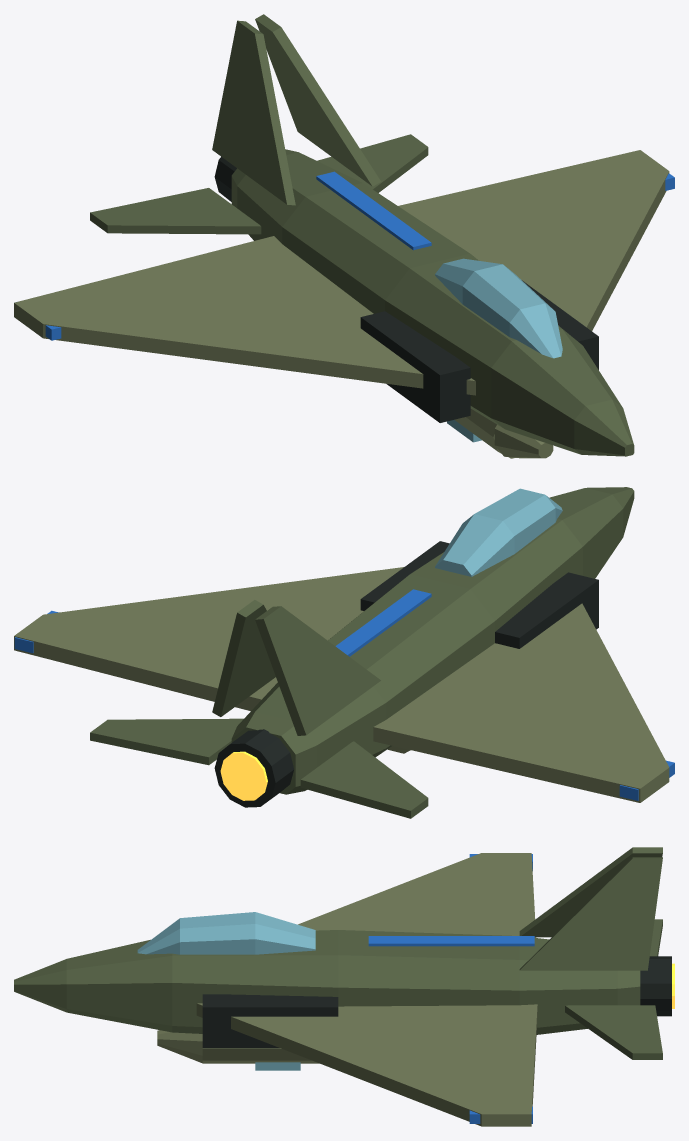
Rendered from air_h_recon.glb.
The picture shows the model from 3 angles, top to bottom: view 1: azimuth 30°, elevation 25°; view 2: azimuth 150°, elevation 25°; view 3: azimuth 270°, elevation 25°; orthographic projection. The views are drawn at different scales.
Visible parts, largest first — view 1: Recon jet; view 2: Recon jet; view 3: Recon jet.
Part boxes in pixels (left/top/right/bottom): Recon jet: left=14, top=14, right=674, bottom=458; Recon jet: left=14, top=487, right=674, bottom=818; Recon jet: left=14, top=847, right=674, bottom=1126.
Size of the model in its own units: 4.1 by 1.55 by 4.38.
